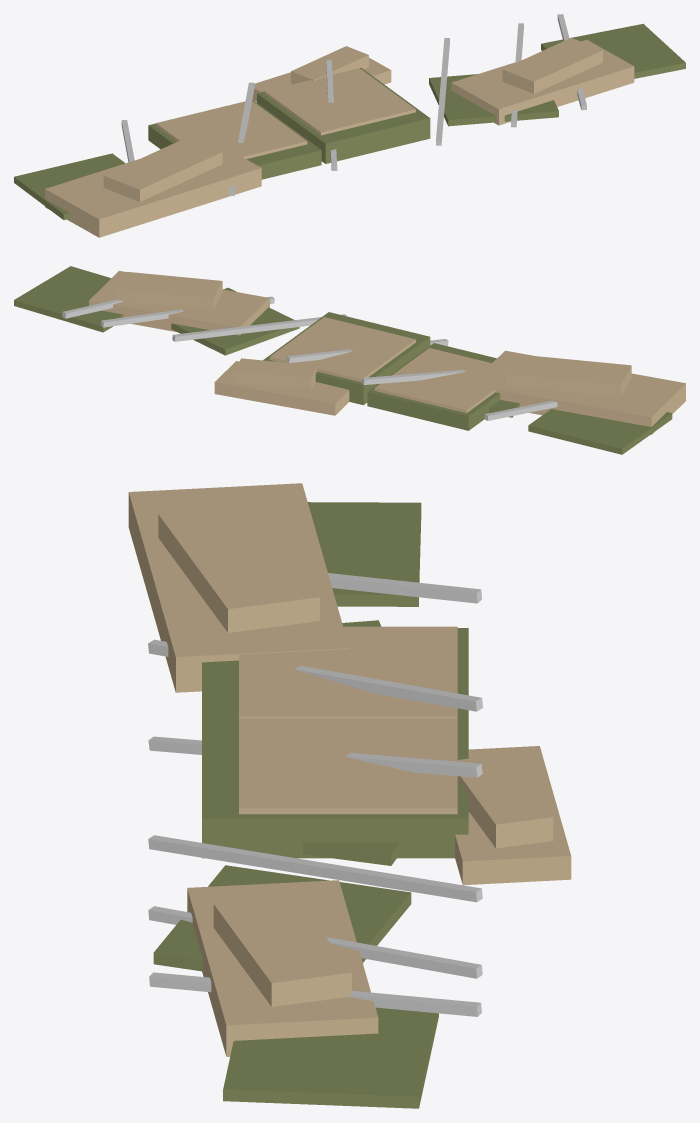
The model's file is SM_HescoCorto3_v2_Escalonado_e3_Brecha_LOD0.fbx.
3 views of the same model, one above another, from view 1: azimuth 30°, elevation 25°; view 2: azimuth 150°, elevation 25°; view 3: azimuth 270°, elevation 25° (orthographic). The views are drawn at different scales.
Parts seen in each view (by area): view 1: SM_hesco_piezas_v91_LOD0; view 2: SM_hesco_piezas_v91_LOD0; view 3: SM_hesco_piezas_v91_LOD0.
Boxes of the visible parts, bbox=[...] form: SM_hesco_piezas_v91_LOD0: bbox=[14, 14, 685, 237]; SM_hesco_piezas_v91_LOD0: bbox=[14, 266, 685, 454]; SM_hesco_piezas_v91_LOD0: bbox=[128, 483, 571, 1108].
Size of the model in its own units: 6.44 by 0.3263 by 2.02.
